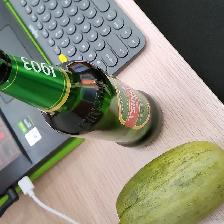gua: (110, 140, 221, 224)
